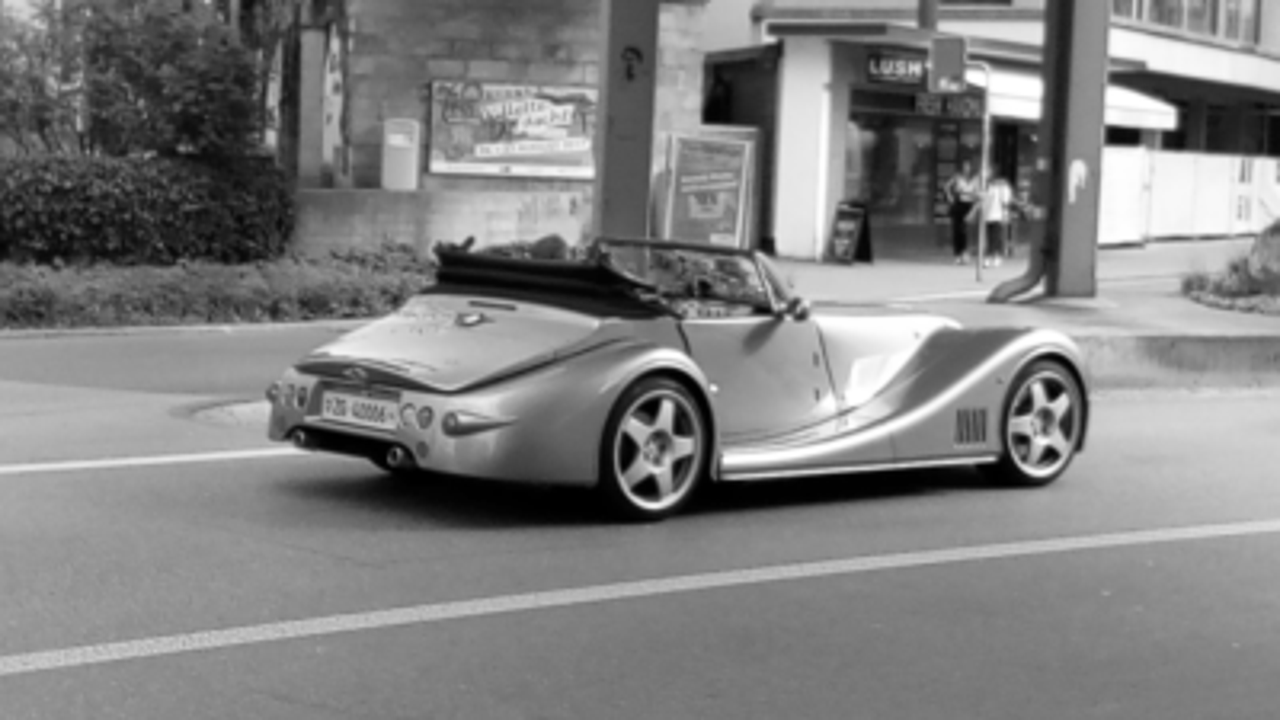license: (314, 384, 402, 435)
